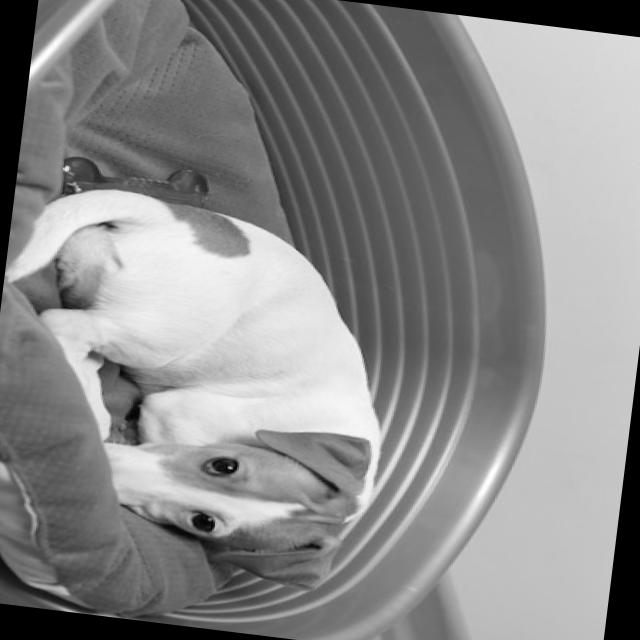laying down: (0, 178, 415, 602)
